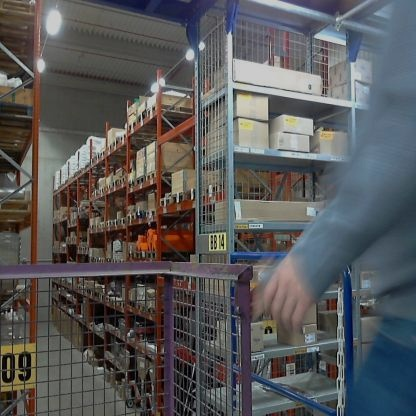pallets: (202, 367, 337, 416), (200, 169, 318, 225), (206, 101, 259, 154), (128, 88, 193, 127), (329, 56, 372, 102), (320, 310, 379, 342), (216, 316, 267, 352), (0, 180, 32, 227), (177, 169, 219, 198), (245, 266, 275, 295), (0, 85, 33, 107), (202, 66, 226, 93), (206, 278, 235, 300), (231, 251, 289, 262), (316, 310, 338, 336), (105, 240, 130, 262), (212, 200, 228, 226), (90, 216, 102, 229)
